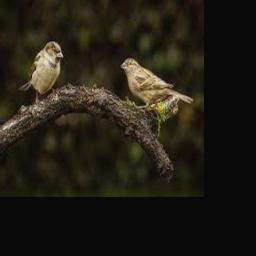Sparrow: (121, 56, 193, 107), (19, 41, 64, 105)
